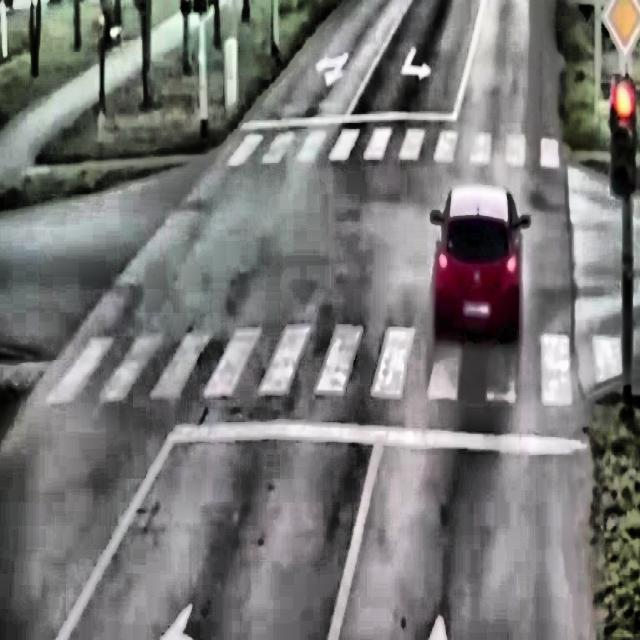red: (605, 66, 640, 210)
